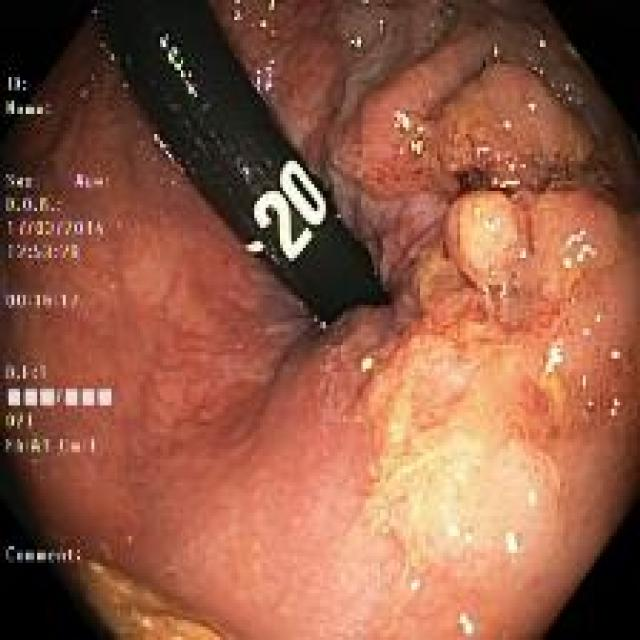Polyps: (445, 191, 520, 288)
